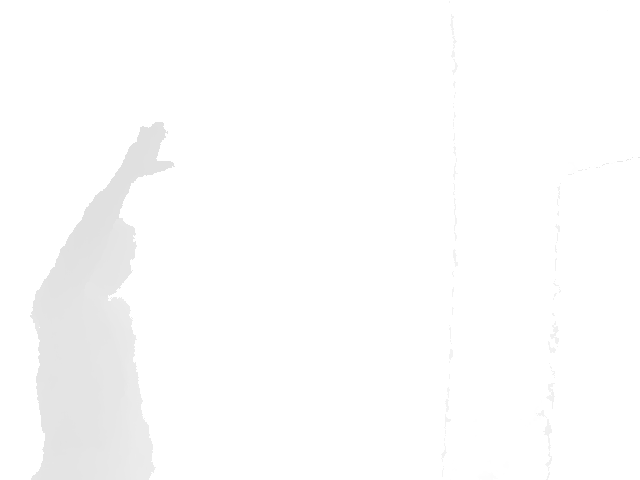hand: (112, 120, 177, 181)
head: (90, 217, 138, 298)
person: (26, 120, 177, 480)
